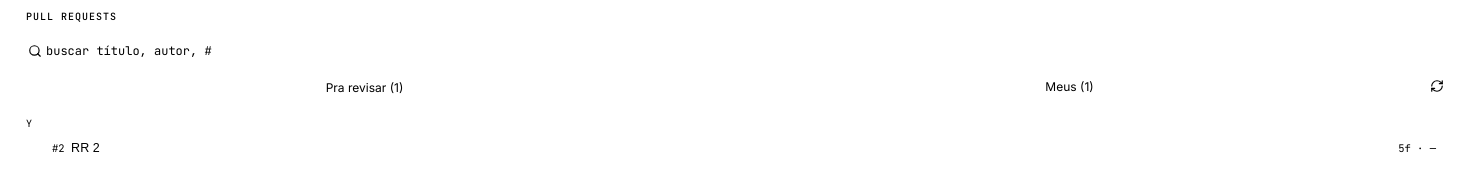
Scenario: PrListPanel › switches between tabs and shows counts
Expected: the text "RR 2" is shown, [71,141,100,155]
Expected: the tab "Pra revisar (1)" is shown, [12,71,717,103]
What coordinates should you click on to do the following:
click the tab "Meus (1)"
I would click on:
 (1070, 87)
Its box is [717,71,1422,103].
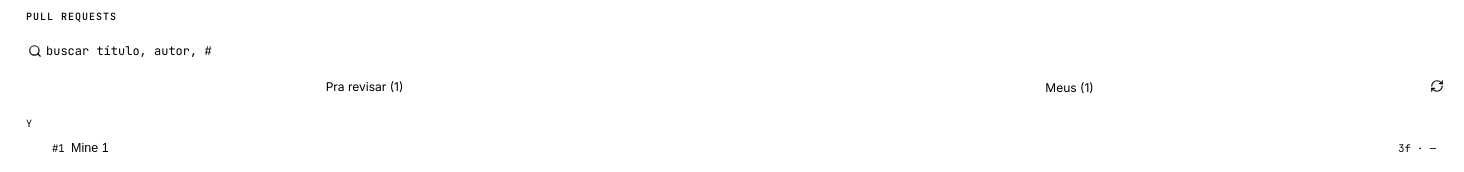
Expected: the text "Mine 1" is shown, [71,141,109,155]
